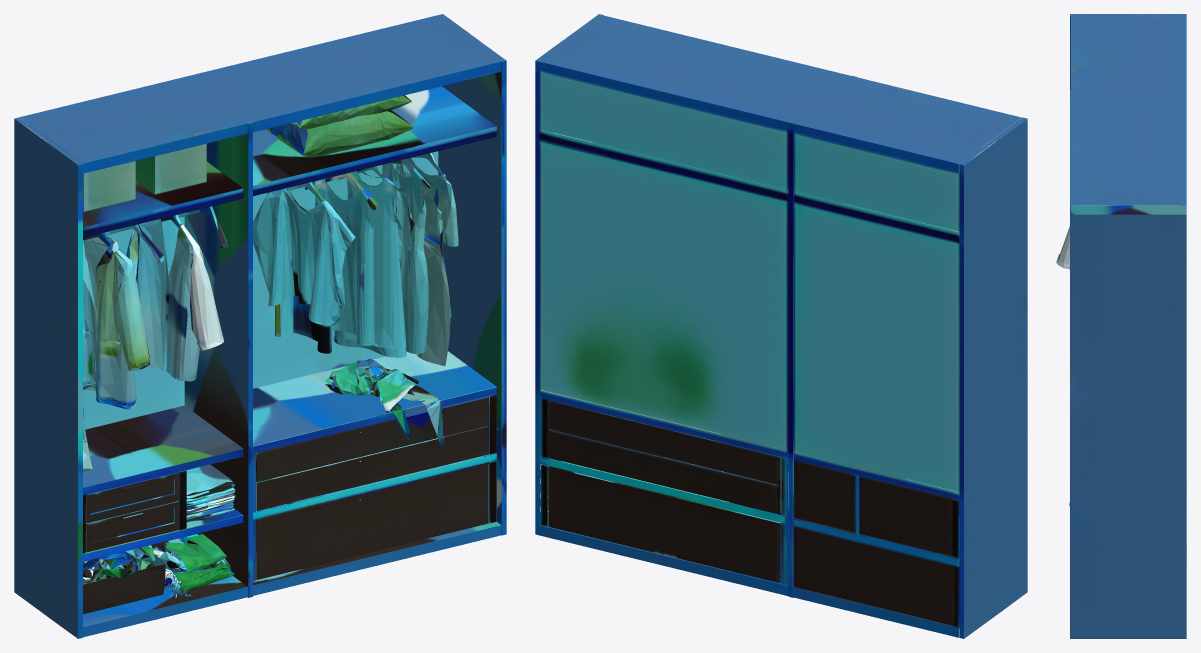
File: edited_mesh.glb
The picture shows the model from 3 angles, left to right: view 1: azimuth 30°, elevation 25°; view 2: azimuth 150°, elevation 25°; view 3: azimuth 270°, elevation 25°; orthographic projection. The views are drawn at different scales.
Parts seen in each view (by area): view 1: solid_001_wire; view 2: solid_001_wire; view 3: solid_001_wire.
Boxes of the visible parts, left/top/right/bottom form: solid_001_wire: left=14, top=14, right=506, bottom=638; solid_001_wire: left=535, top=14, right=1027, bottom=638; solid_001_wire: left=1056, top=14, right=1186, bottom=638.
Bounding box in the file's own units: 1.28 × 1.36 × 0.3697.
1 material, 1 textured.
